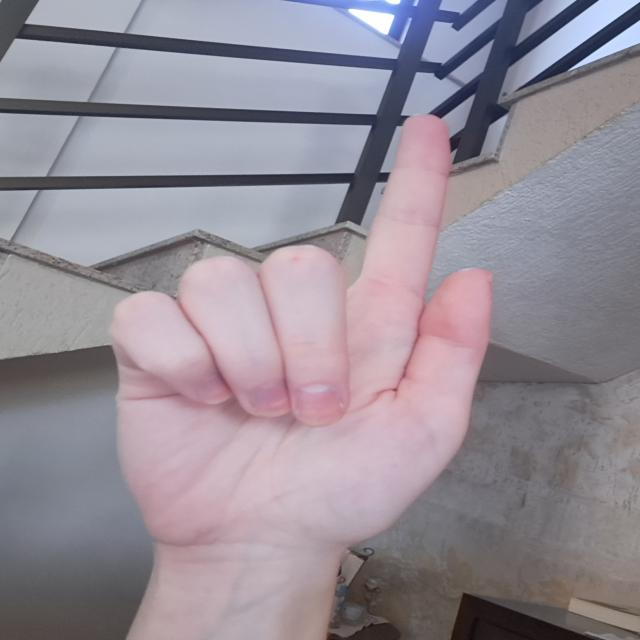G: (99, 110, 510, 557)
